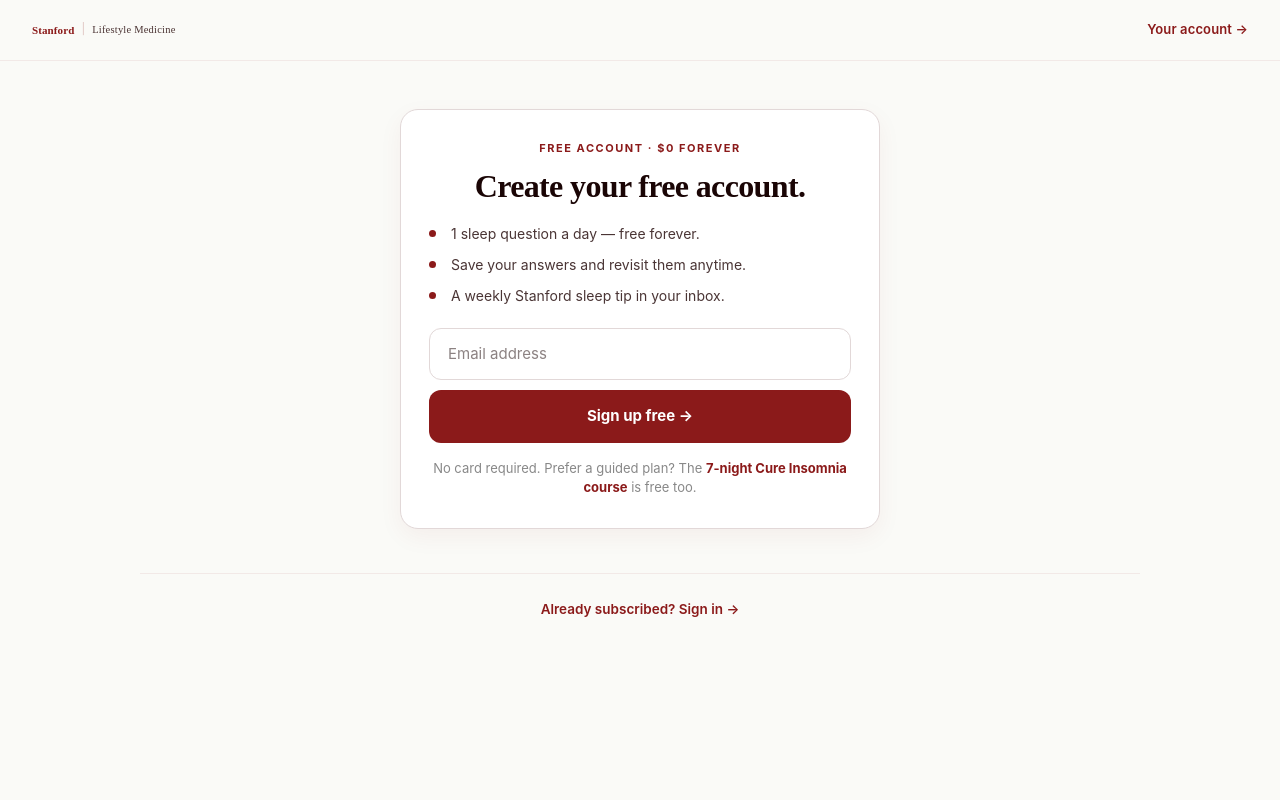
Test case: /subscribe free-account signup › success: POSTs the email and renders the link-sent state
Expected: the heading "Create your free account." is shown, left=475, top=168, right=805, bottom=204
In the field with placeholder "Email address": (640,354) left=429, top=328, right=851, bottom=380, type "newbie@example.com"
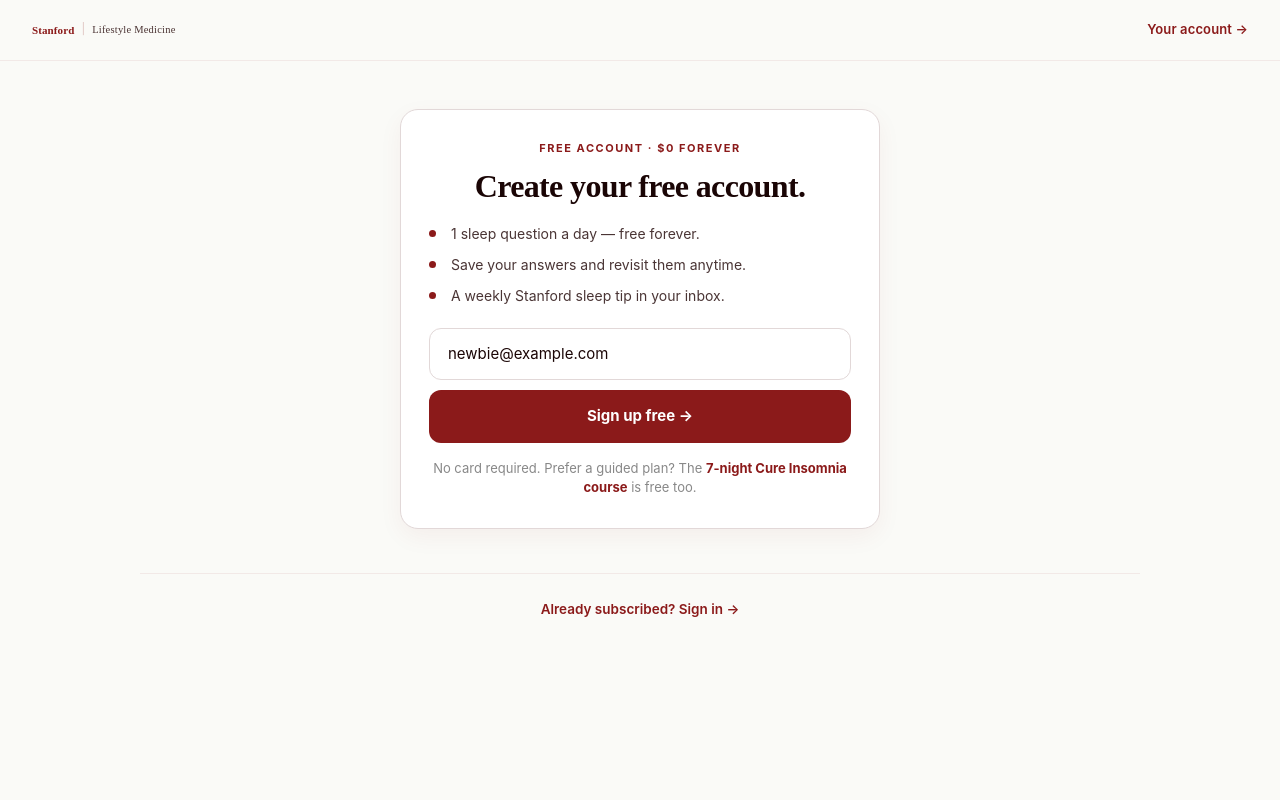
Click the button "Sign up free →": (640,417) left=429, top=390, right=851, bottom=443
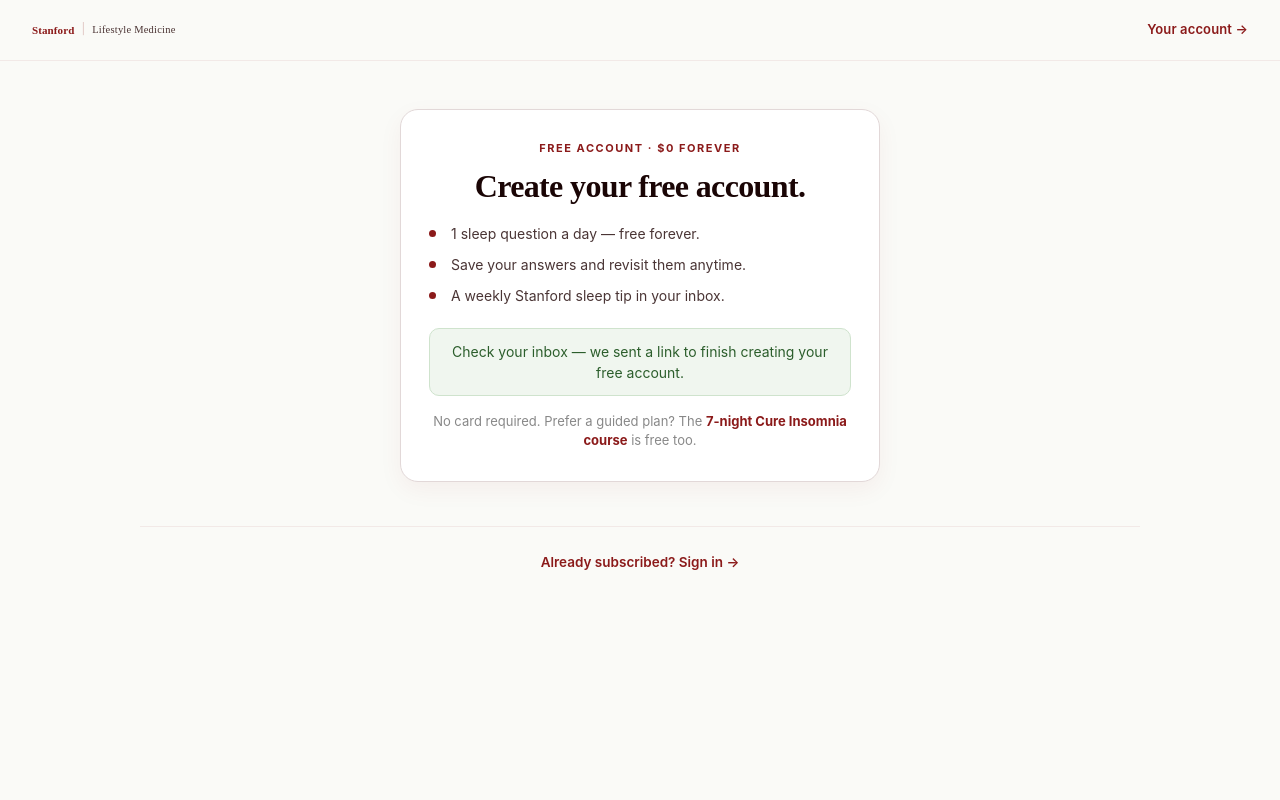
Expected: the text "we sent a link to finish creating your" is shown, left=452, top=343, right=828, bottom=381
Expected: the button "Sign up free" is gone
